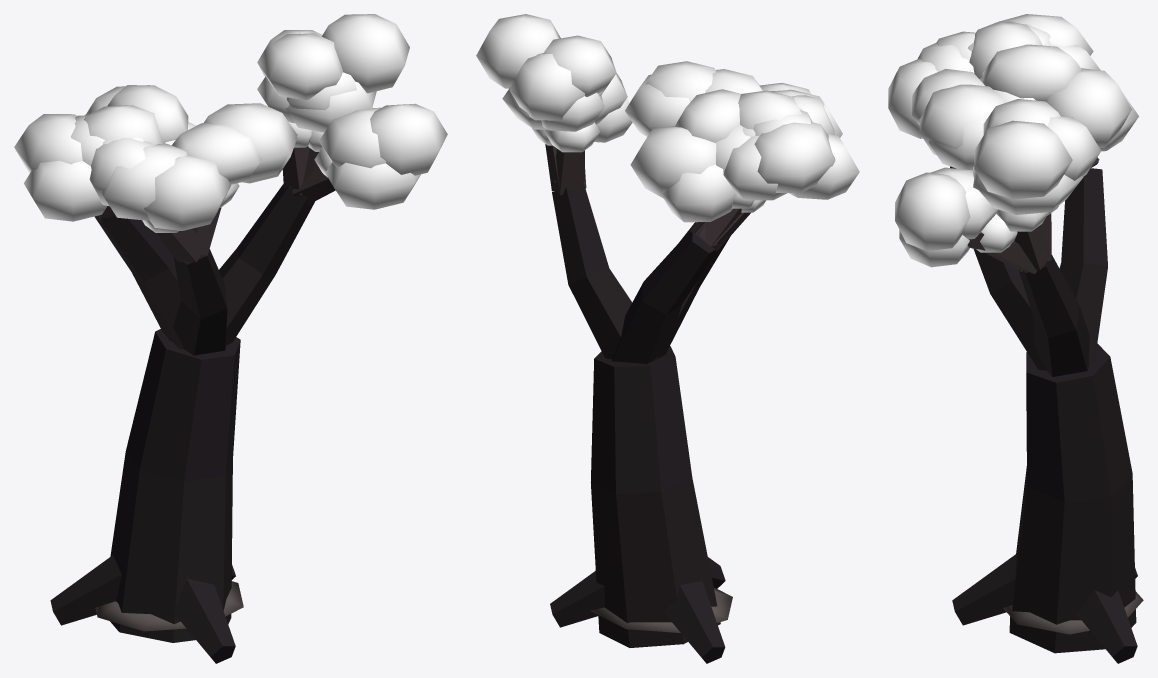
File: EmberTree.fbx
3 views of the same model, side by side, from view 1: azimuth 30°, elevation 25°; view 2: azimuth 150°, elevation 25°; view 3: azimuth 270°, elevation 25° (orthographic). The views are drawn at different scales.
Visible parts, largest first — view 1: Frame, Glow; view 2: Frame, Glow; view 3: Frame, Glow.
Part boxes in pixels (x1,y1,x2,y2): Frame: (50, 146, 335, 663); Glow: (14, 14, 447, 232); Frame: (545, 144, 750, 663); Glow: (476, 14, 859, 222); Frame: (950, 157, 1143, 663); Glow: (888, 14, 1138, 267).
Bounding box in the file's own units: 6.01 × 8.74 × 3.46.
1 material, 1 textured.
